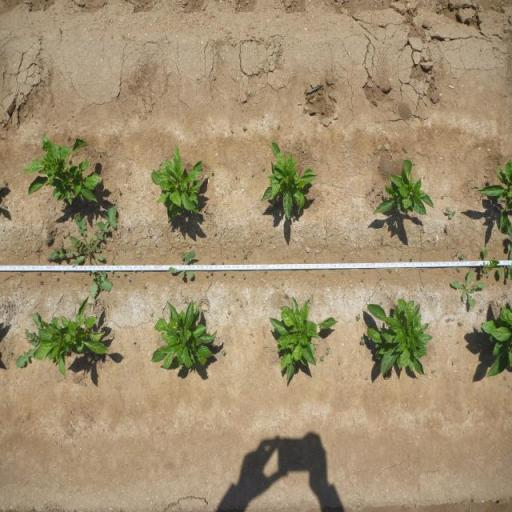plant: (267, 293, 342, 384), (21, 132, 105, 206), (38, 294, 108, 378), (365, 296, 432, 378), (257, 138, 320, 220), (153, 297, 219, 373), (149, 142, 205, 224), (373, 158, 436, 220), (472, 158, 512, 234), (481, 306, 512, 380), (444, 206, 456, 220)
weed: (44, 205, 118, 299), (13, 310, 41, 369), (448, 268, 486, 308), (169, 250, 197, 280), (480, 246, 499, 276), (110, 260, 118, 274), (358, 335, 366, 347), (355, 312, 362, 322), (109, 332, 116, 340), (221, 349, 228, 357), (325, 346, 330, 356), (36, 270, 42, 278), (458, 254, 466, 260), (380, 235, 384, 246), (39, 279, 45, 286), (430, 368, 436, 375), (457, 322, 464, 328), (478, 307, 484, 314), (386, 268, 393, 274), (181, 251, 186, 259), (242, 254, 248, 260), (118, 188, 122, 196), (320, 354, 324, 362), (142, 285, 148, 290), (148, 312, 154, 317), (410, 254, 414, 261), (114, 273, 120, 277), (56, 276, 60, 282), (341, 270, 345, 276), (321, 272, 325, 278), (242, 274, 246, 280), (222, 270, 226, 276), (210, 170, 214, 176), (457, 268, 461, 273), (360, 278, 364, 283), (210, 261, 215, 265), (133, 340, 137, 345), (399, 258, 403, 262), (362, 270, 366, 274), (264, 270, 268, 274), (210, 272, 214, 276), (128, 277, 131, 282), (123, 272, 126, 276), (189, 244, 192, 248), (231, 274, 234, 278), (252, 172, 254, 177), (378, 250, 380, 254), (206, 274, 208, 278), (222, 260, 224, 264)
